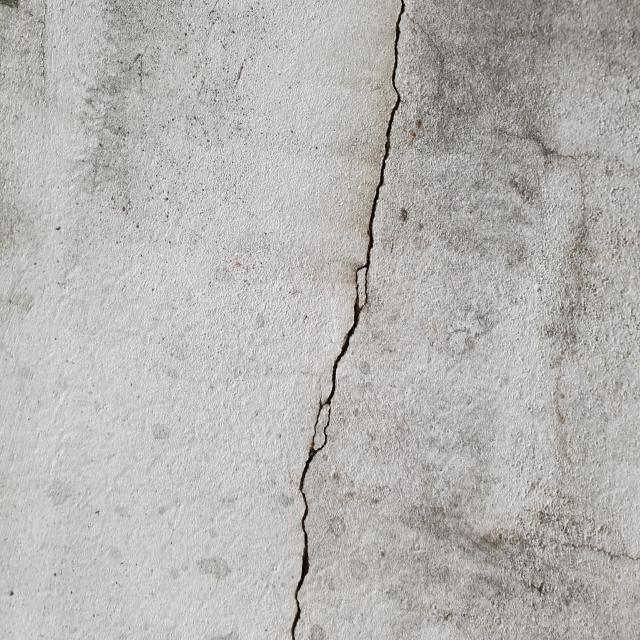SurfaceCrack: (254, 0, 451, 639)
